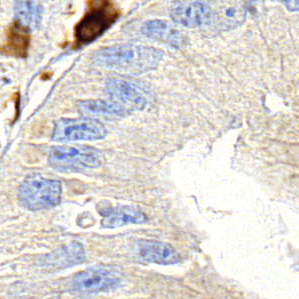Lymphocyte: (75, 2, 114, 45)
